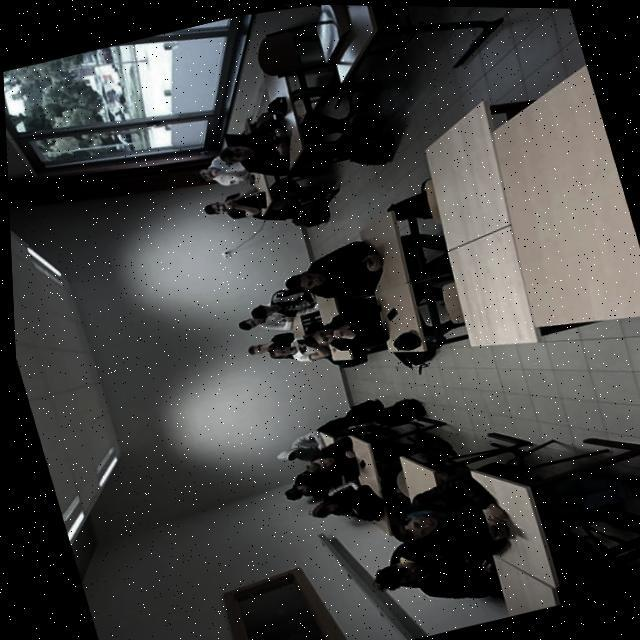phone_use: (375, 461, 511, 596), (205, 97, 289, 183), (285, 241, 381, 296), (248, 329, 328, 360)
